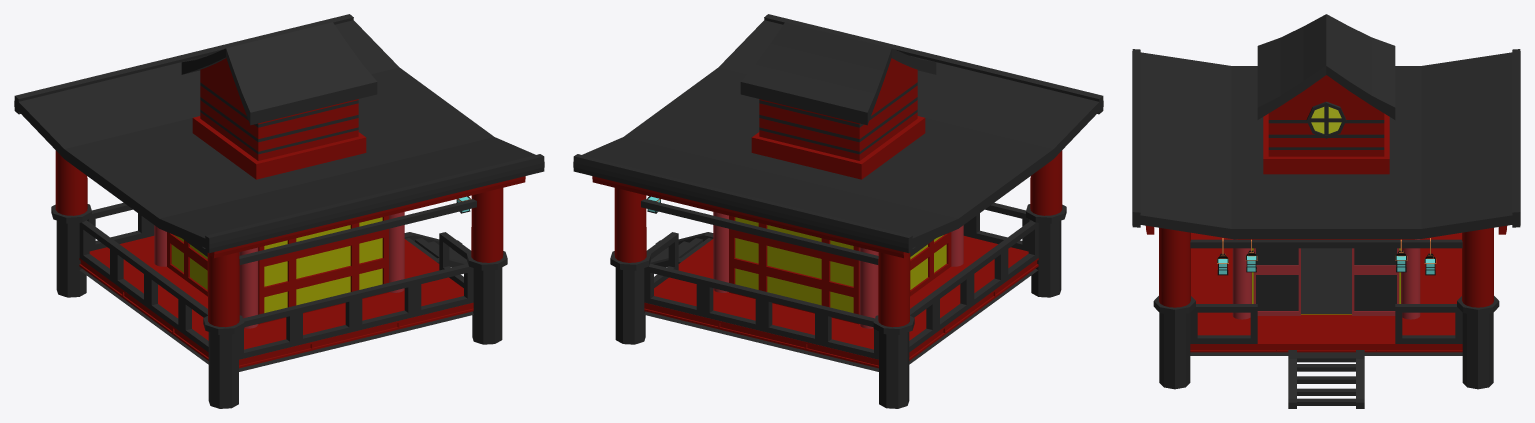
The model's file is House2Asia.fbx.
The picture shows the model from 3 angles, left to right: view 1: azimuth 30°, elevation 25°; view 2: azimuth 150°, elevation 25°; view 3: azimuth 270°, elevation 25°; orthographic projection.
Parts seen in each view (by area): view 1: çatı.001; view 2: çatı.001; view 3: çatı.001.
Boxes of the visible parts, box(x1,y1,x2,y2) form: çatı.001: box(14, 14, 544, 408); çatı.001: box(573, 14, 1103, 408); çatı.001: box(1132, 14, 1520, 408).
Size of the model in its own units: 2131 by 1560 by 1971.
